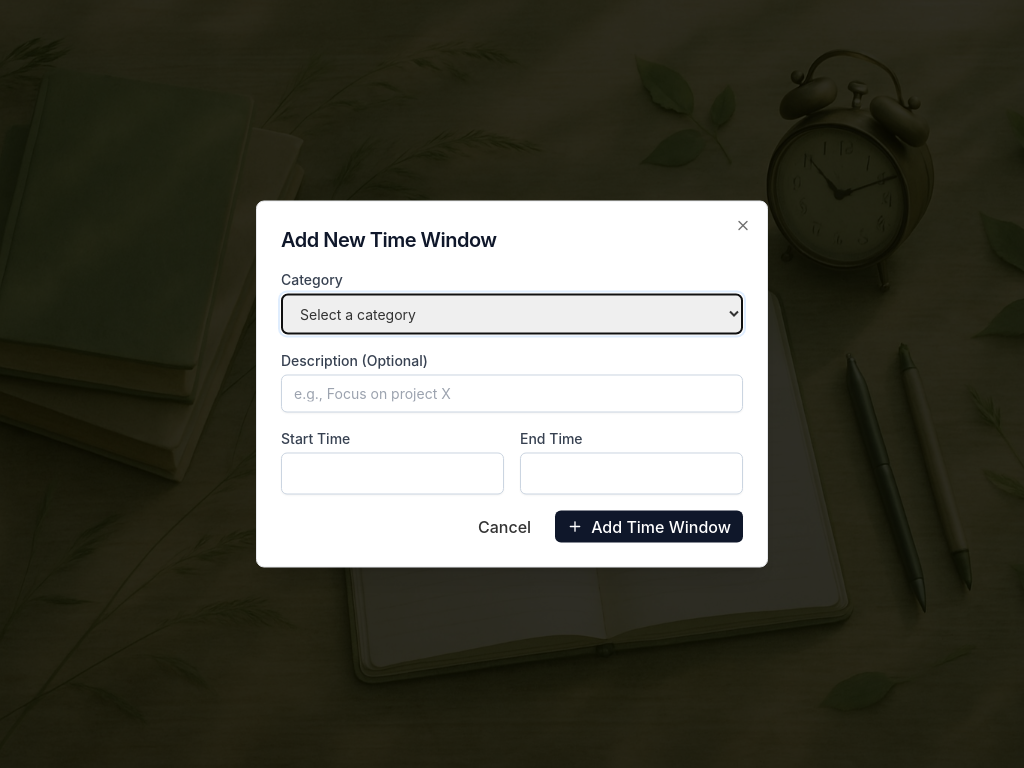
CreateTemplateTimeWindowModal › shows error for overlapping time windows
This screenshot has width=1024, height=768.
Select "Work" in the dropdown labelled "Category". click: {"x": 512, "y": 314}
box: top-left (281, 294), bottom-right (743, 334)
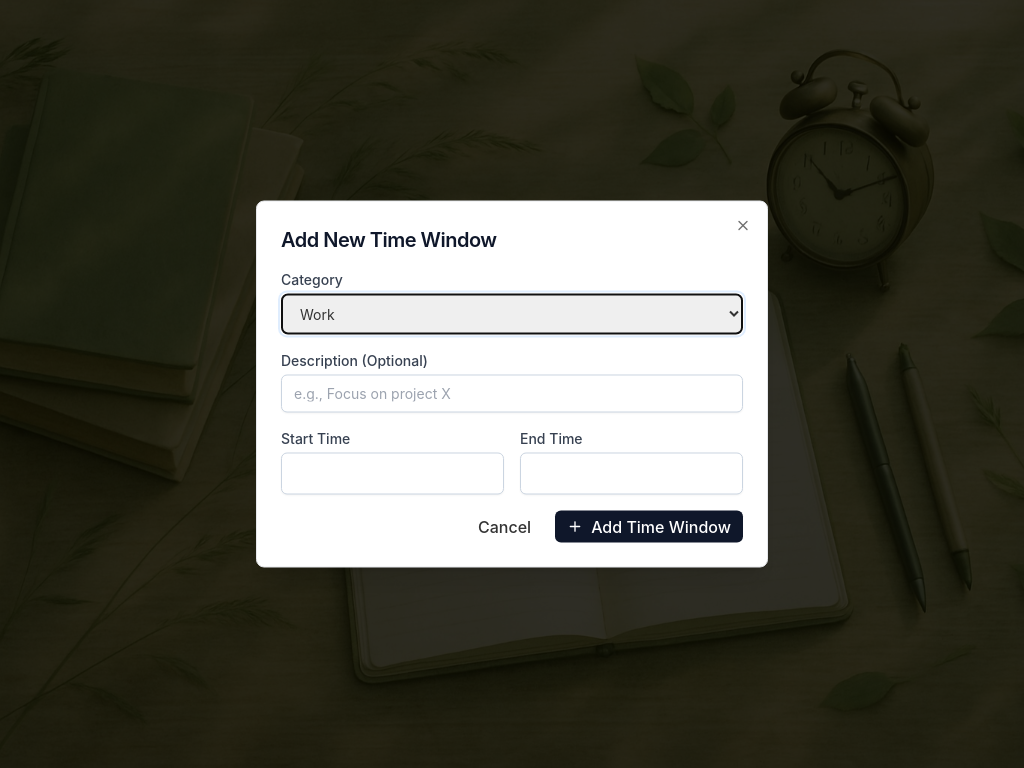
Type "Overlapping Time" into the field labelled "Description (Optional)". click: {"x": 512, "y": 394}
box: top-left (281, 374), bottom-right (743, 412)
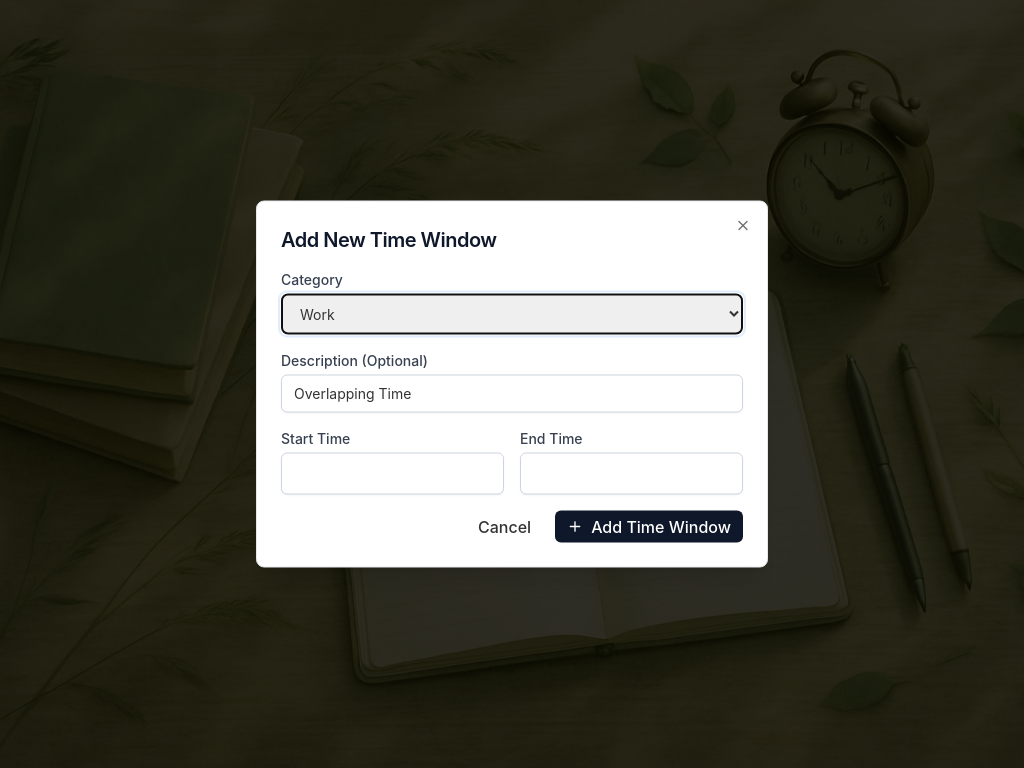
Type "09:30" into the field labelled "Start Time". click: {"x": 392, "y": 474}
box: top-left (281, 452), bottom-right (504, 494)
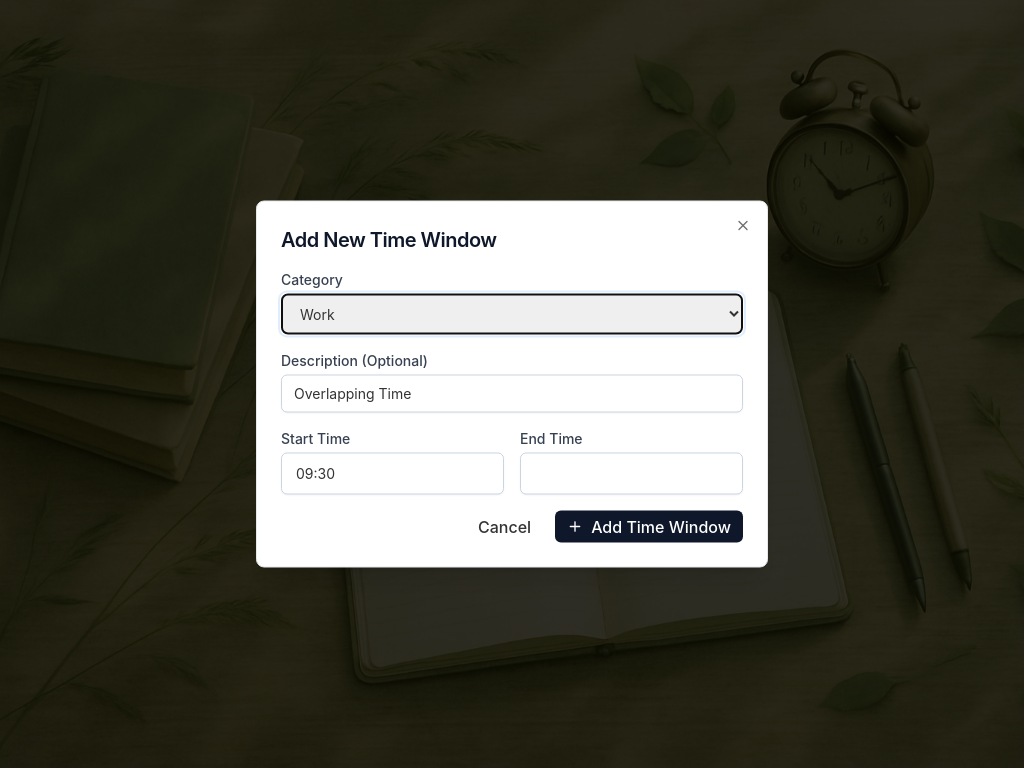
Type "10:30" into the field labelled "End Time". click: {"x": 632, "y": 474}
box: top-left (520, 452), bottom-right (743, 494)
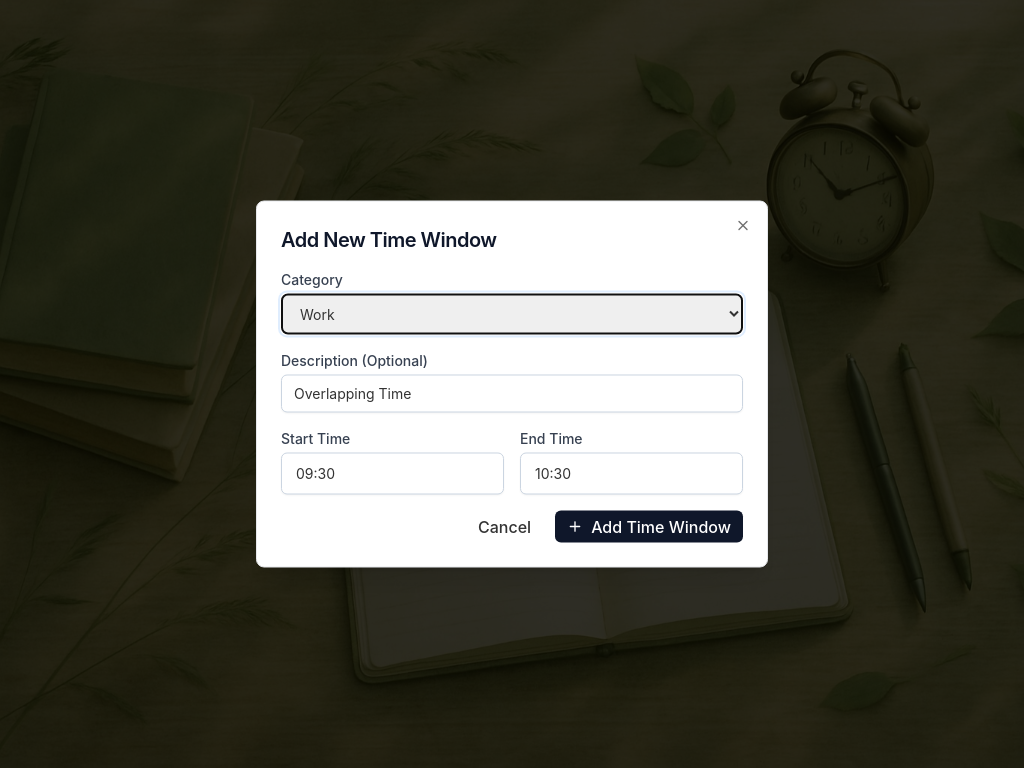
Click the button "Add Time Window". click: {"x": 649, "y": 526}
box: top-left (555, 510), bottom-right (743, 542)
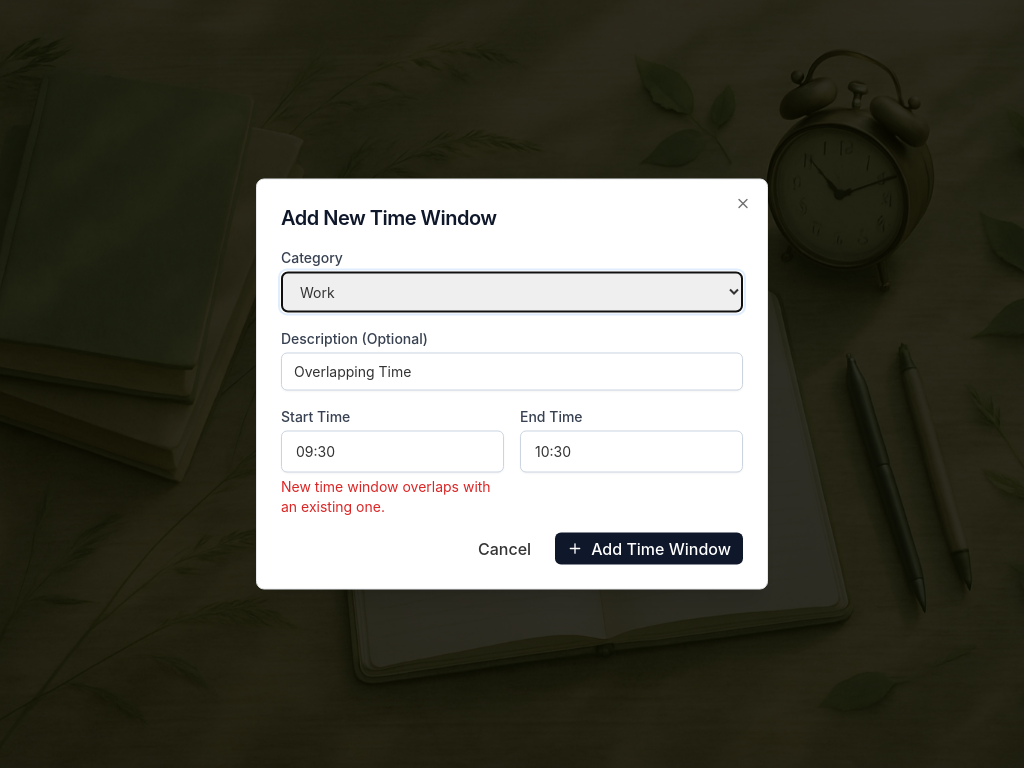
Now the text "New time window overlaps with an existing one." is shown, box top-left (281, 476), bottom-right (504, 516)
